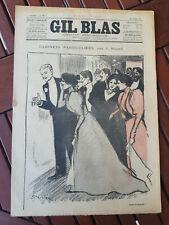paper: (11, 6, 162, 216)
